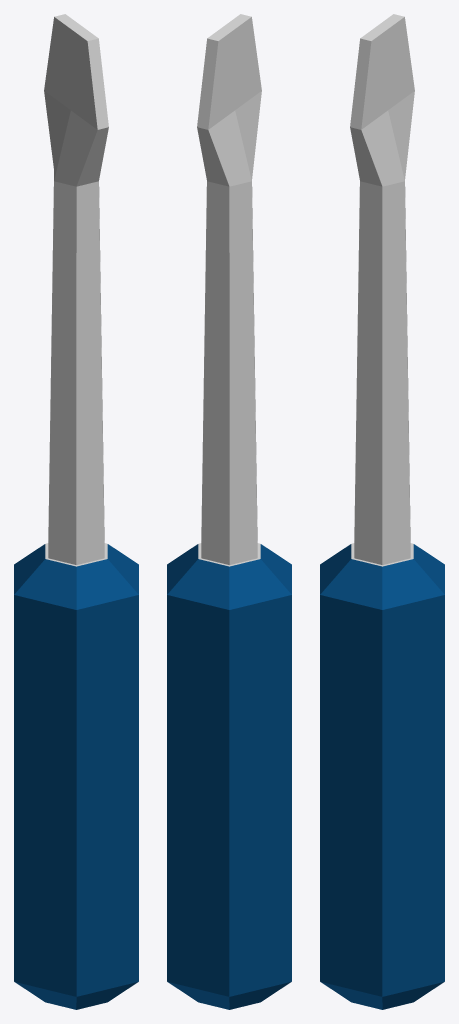
File: screw.fbx
3 renders of one model, left to right at view 1: azimuth 30°, elevation 25°; view 2: azimuth 150°, elevation 25°; view 3: azimuth 330°, elevation 25°, orthographic.
Parts seen in each view (by area): view 1: pCylinder2; view 2: pCylinder2; view 3: pCylinder2.
Part boxes in pixels (box(x1,y1,x2,y2)): pCylinder2: box(14, 14, 138, 1009); pCylinder2: box(167, 14, 291, 1009); pCylinder2: box(320, 14, 444, 1009).
Bounding box in the file's own units: 0.1241 × 0.9185 × 0.1074.
